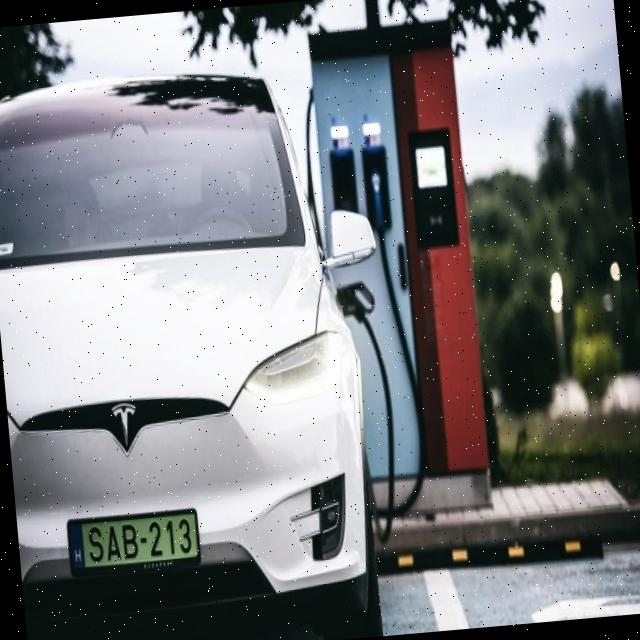licence: (63, 505, 203, 581)
